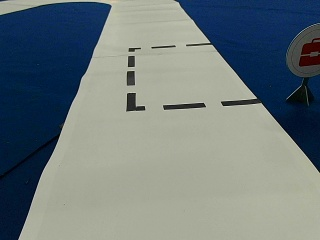company: (285, 23, 319, 77)
